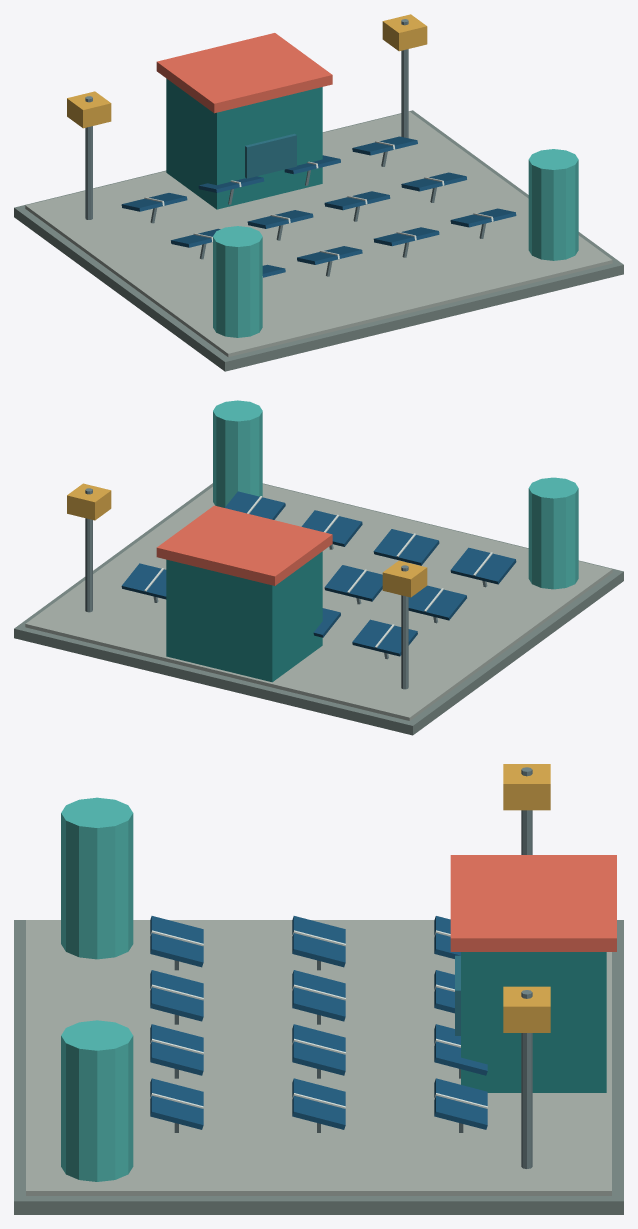
Rendered from solar_lv4.glb.
The picture shows the model from 3 angles, top to bottom: view 1: azimuth 30°, elevation 25°; view 2: azimuth 150°, elevation 25°; view 3: azimuth 270°, elevation 25°; orthographic projection. The views are drawn at different scales.
Parts seen in each view (by area): view 1: concrete, teal, turquoise, pavement, coral, solar, gold, steel, glassDark, white; view 2: concrete, teal, solar, pavement, turquoise, coral, gold, steel, white; view 3: concrete, turquoise, solar, pavement, teal, coral, gold, steel, white.
Boxes of the visible parts, box(x1,y1,x2,y2) form: concrete: box(25, 111, 612, 357); teal: box(166, 78, 322, 209); turquoise: box(213, 149, 578, 337); pavement: box(14, 110, 623, 371); coral: box(156, 33, 332, 113); solar: box(121, 136, 516, 277); gold: box(67, 14, 427, 128); steel: box(85, 19, 486, 276); glassDark: box(245, 133, 296, 178); white: box(144, 141, 493, 277); concrete: box(25, 484, 612, 720); teal: box(166, 551, 322, 682); solar: box(121, 491, 516, 656); pavement: box(14, 483, 623, 735); turquoise: box(213, 400, 578, 589); coral: box(156, 505, 332, 585); gold: box(67, 483, 427, 597); steel: box(85, 488, 487, 689); white: box(144, 496, 492, 647); concrete: box(26, 920, 611, 1195); turquoise: box(61, 797, 133, 1181); solar: box(150, 916, 487, 1129); pavement: box(14, 920, 623, 1214); teal: box(461, 952, 606, 1092); coral: box(450, 855, 616, 951); gold: box(503, 764, 550, 1032); steel: box(174, 767, 532, 1168); white: box(150, 930, 487, 1108).
Size of the model in its own units: 9.6 by 3.08 by 8.8.
